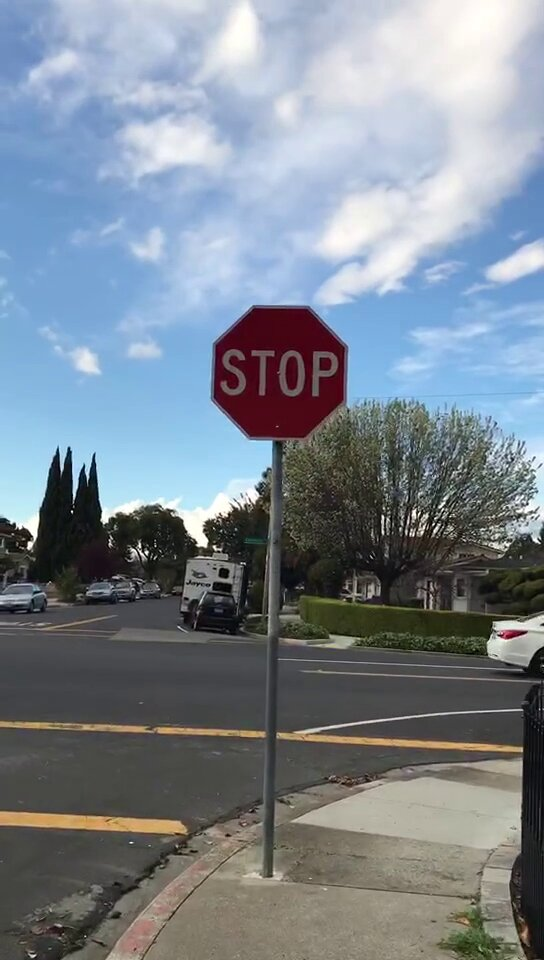stop_sign: (213, 308, 346, 441)
